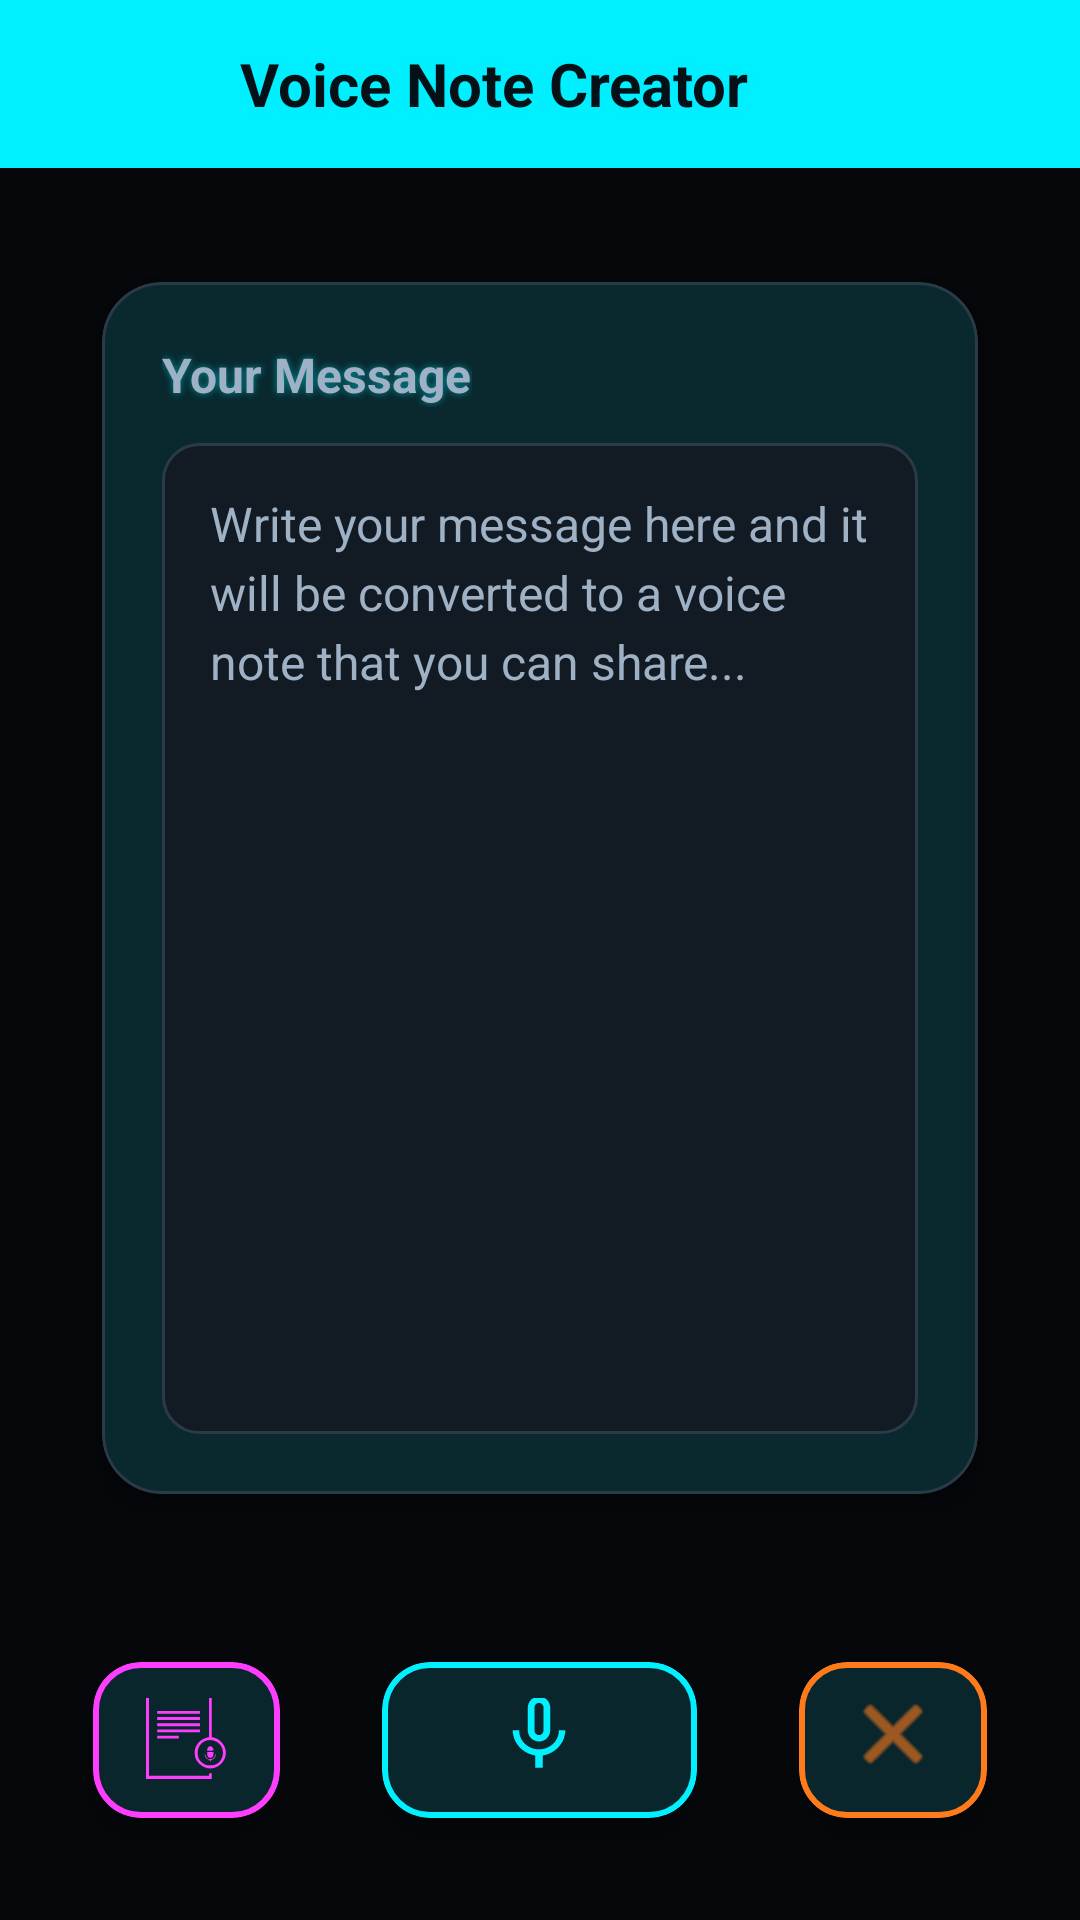

Named icons in this screenshot (1080x1920) and their centers, [x,y]:
close clear cancel: [893,1734]
mic: [539,1733]
trans: [186,1738]
